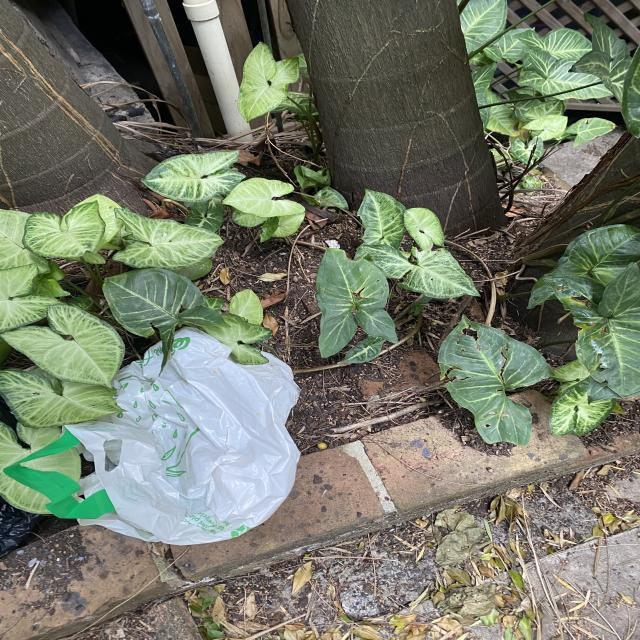bag: (3, 326, 300, 547)
